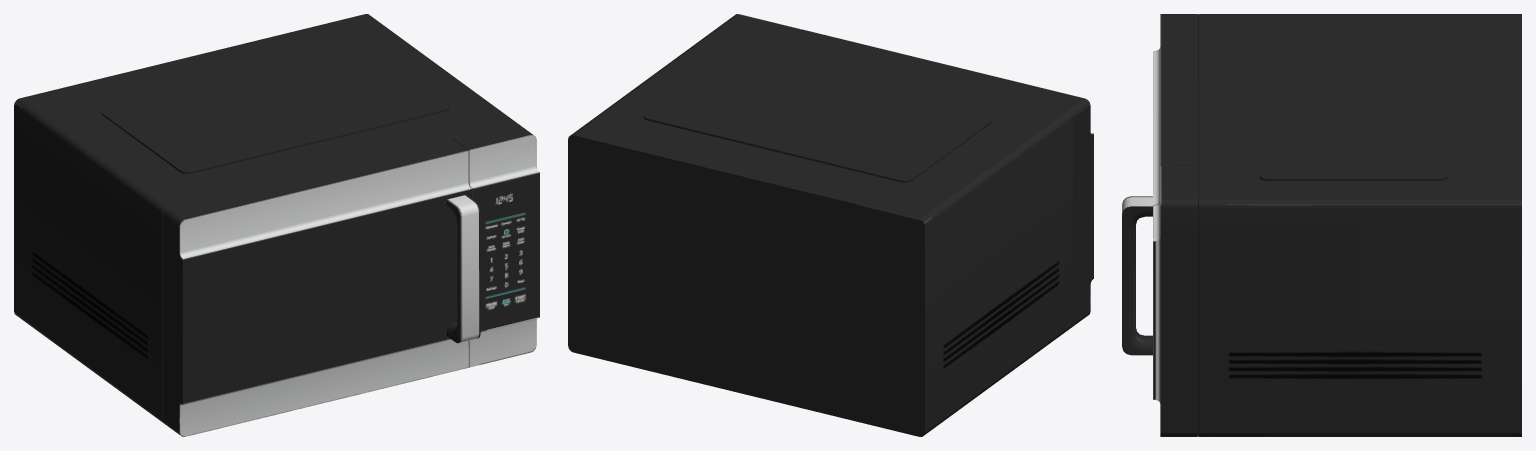
The model's file is oven.fbx.
The picture shows the model from 3 angles, left to right: view 1: azimuth 30°, elevation 25°; view 2: azimuth 150°, elevation 25°; view 3: azimuth 270°, elevation 25°; orthographic projection. The views are drawn at different scales.
Visible parts, largest first — view 1: defaultMaterial.003, defaultMaterial.001, defaultMaterial.002; view 2: defaultMaterial.003, defaultMaterial.001; view 3: defaultMaterial.003, defaultMaterial.001, defaultMaterial.002.
Part boxes in pixels (x1,y1,x2,y2): defaultMaterial.003: (14, 14, 539, 422); defaultMaterial.001: (162, 138, 472, 436); defaultMaterial.002: (446, 195, 480, 343); defaultMaterial.003: (568, 14, 1072, 436); defaultMaterial.001: (784, 29, 1093, 326); defaultMaterial.003: (1153, 14, 1521, 436); defaultMaterial.001: (1153, 14, 1198, 205); defaultMaterial.002: (1122, 196, 1152, 355).
Bounding box in the file's own units: 5500 × 3423 × 4884.
Materials: 1 (1 with a texture image).
